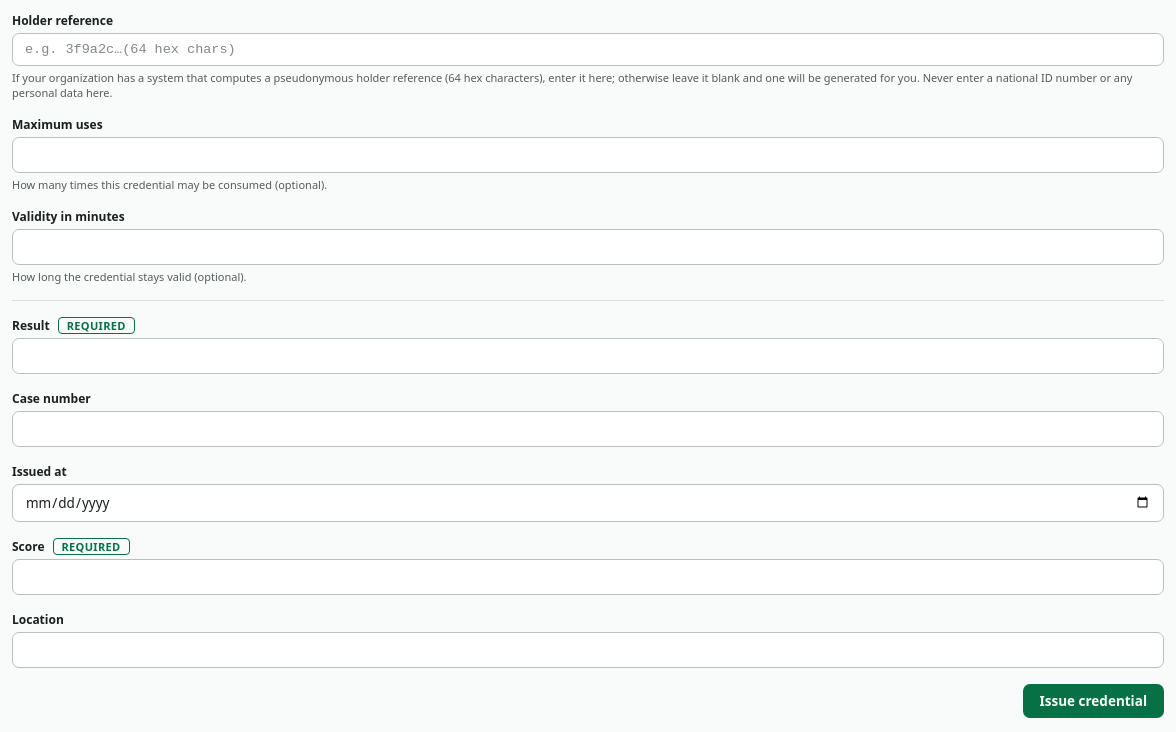
Test case: IssueForm (dynamic generation from claims_def) › blocks submit and shows a shape error when the holder reference is free text, not 64 hex
Type "holder-001" into the field labelled "Holder reference".
click(588, 50); type("holder-001")  # box [12,33,1164,66]
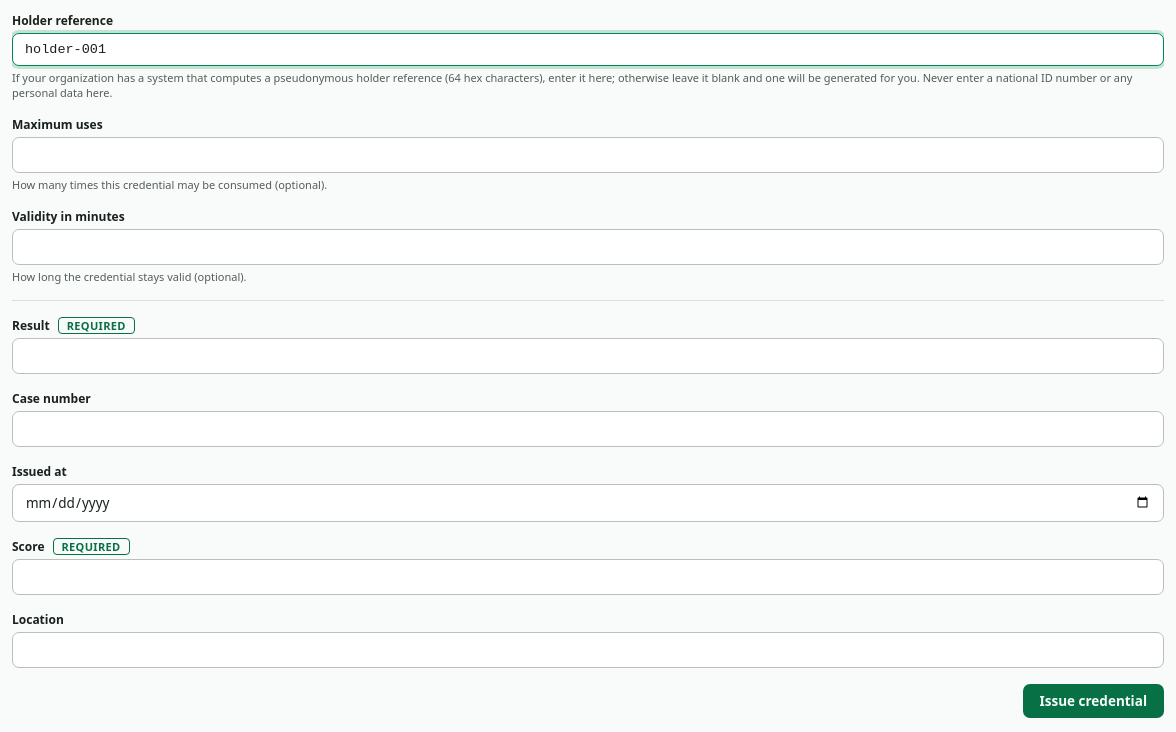
Type "NO_RECORD" into the field labelled "Result".
click(588, 356); type("NO_RECORD")  # box [12,338,1164,374]
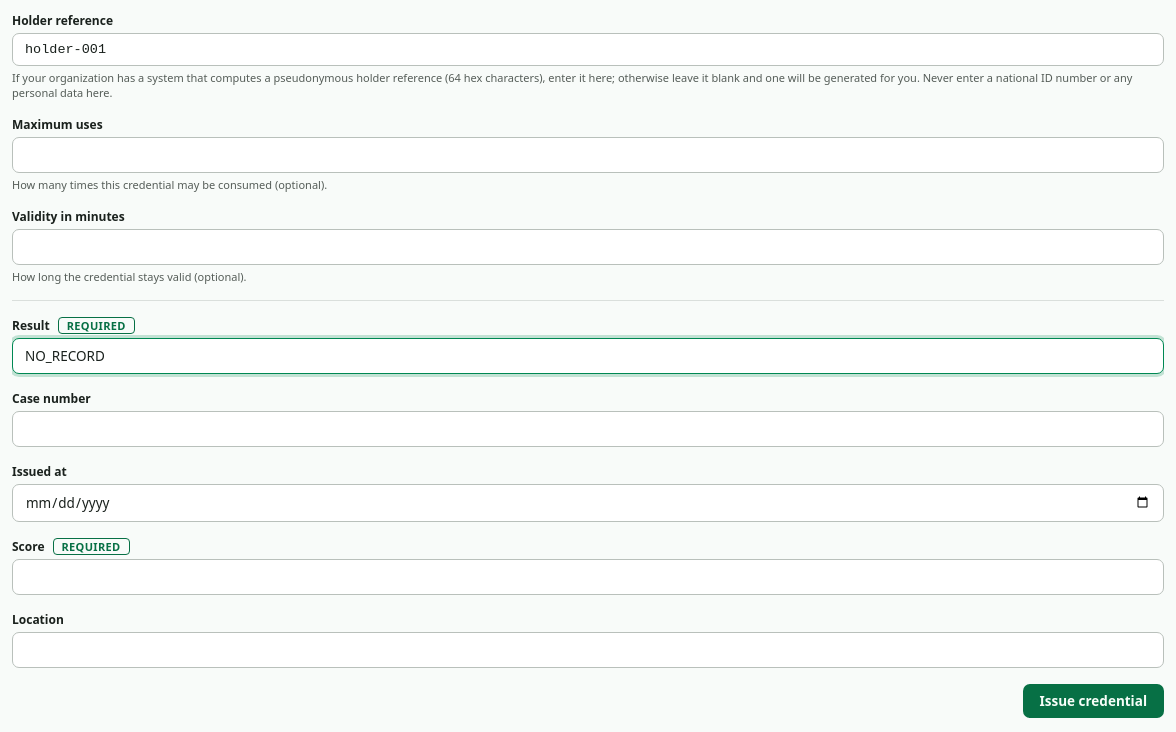
Type "88" into the number field labelled "Score".
click(588, 577); type("88")  # box [12,559,1164,595]
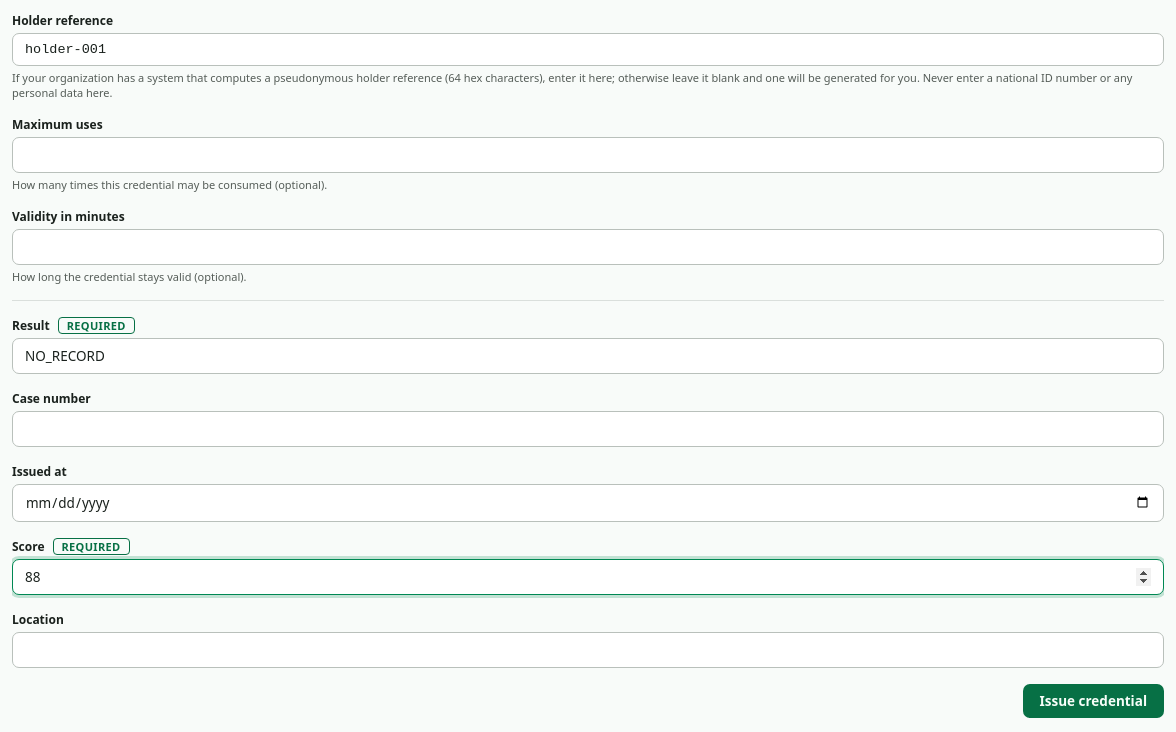
Click the button "Issue credential".
click(1093, 701)  # box [1022,684,1164,718]
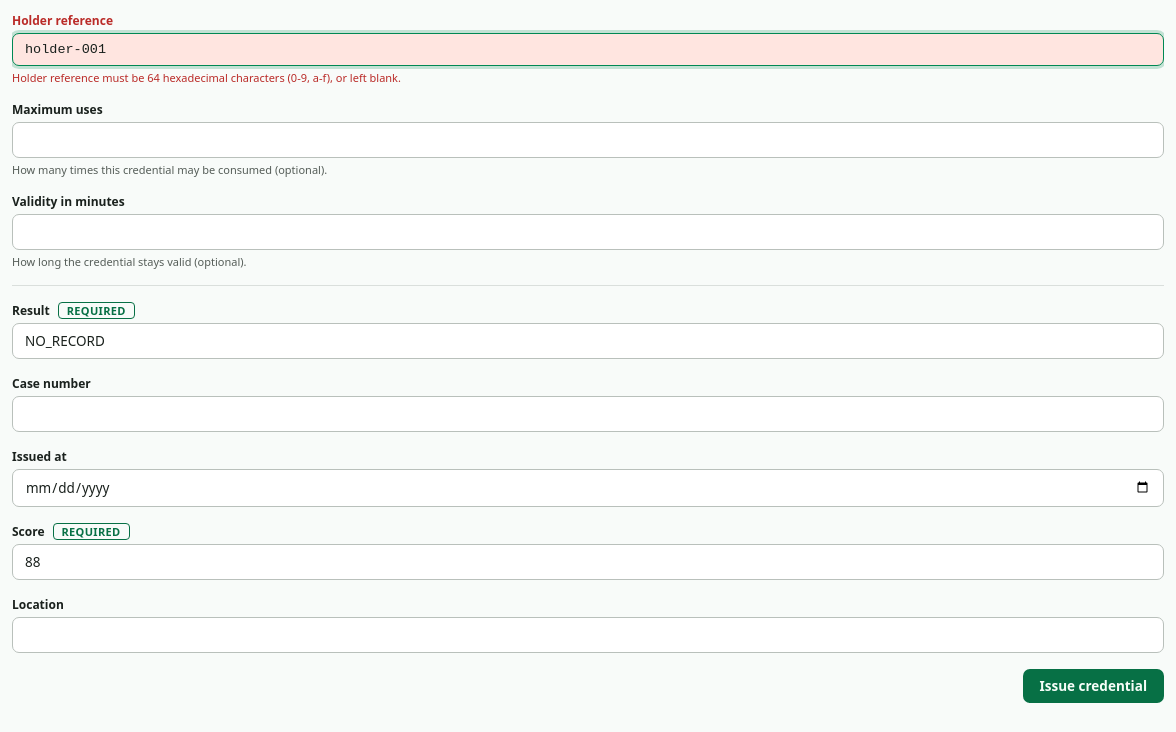
Expected: the text "Holder reference must be 64 hexadecimal characters (0-9, a-f), or left blank." is shown, [12,70,401,85]
